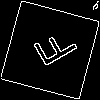F: (25, 25, 79, 74)
